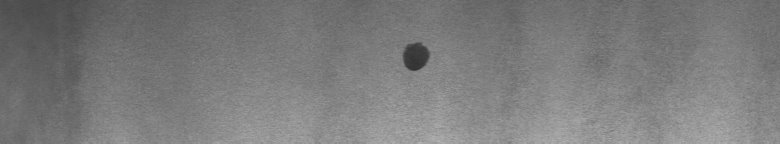fi: (396, 32, 436, 80)
